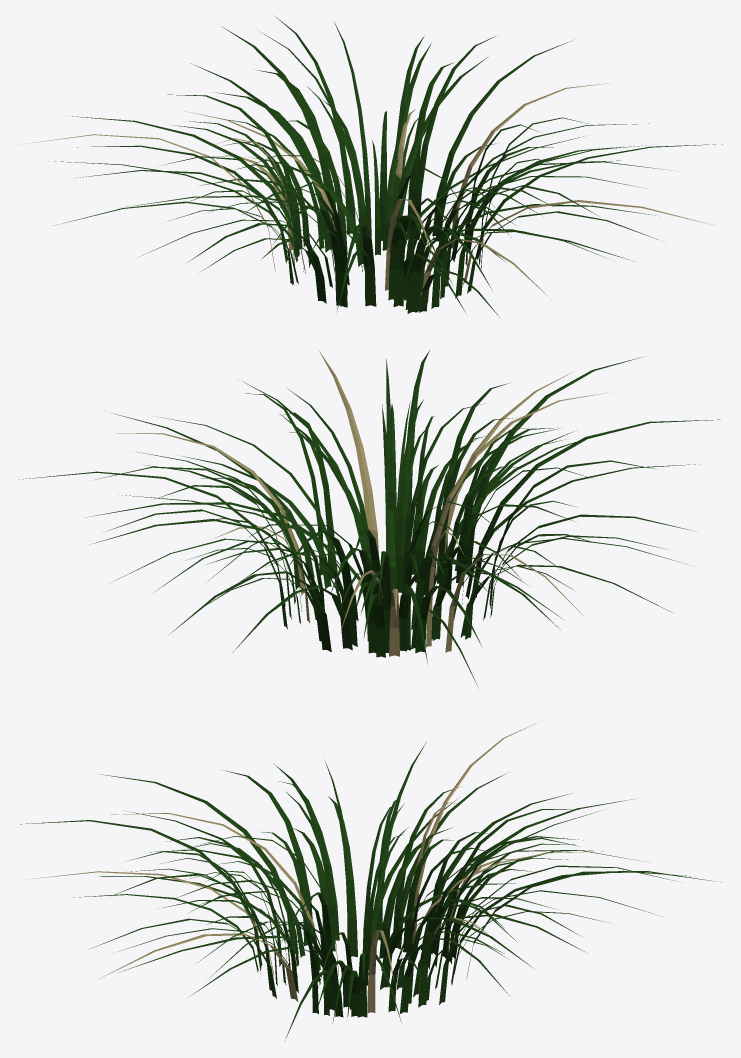
Rendered from Woodland_Grass_Tuft_03_LOD0.fbx.
3 views of the same model, one above another, from view 1: azimuth 30°, elevation 25°; view 2: azimuth 150°, elevation 25°; view 3: azimuth 270°, elevation 25° (orthographic). The views are drawn at different scales.
Visible parts, largest first — view 1: Woodland_Grass_Tuft_03_LOD0_Foliage; view 2: Woodland_Grass_Tuft_03_LOD0_Foliage; view 3: Woodland_Grass_Tuft_03_LOD0_Foliage.
Boxes of the visible parts, box(x1,y1,x2,y2) form: Woodland_Grass_Tuft_03_LOD0_Foliage: box(25, 16, 722, 317); Woodland_Grass_Tuft_03_LOD0_Foliage: box(19, 349, 720, 687); Woodland_Grass_Tuft_03_LOD0_Foliage: box(20, 721, 720, 1041).
Size of the model in its own units: 125 by 27.8 by 129.
Materials: 2 (1 with a texture image).
